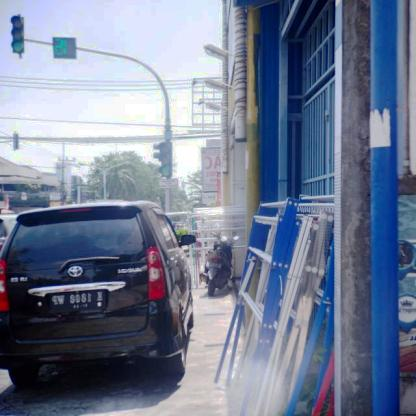Traffic Light -Green-: (10, 14, 26, 55), (160, 141, 172, 178)
